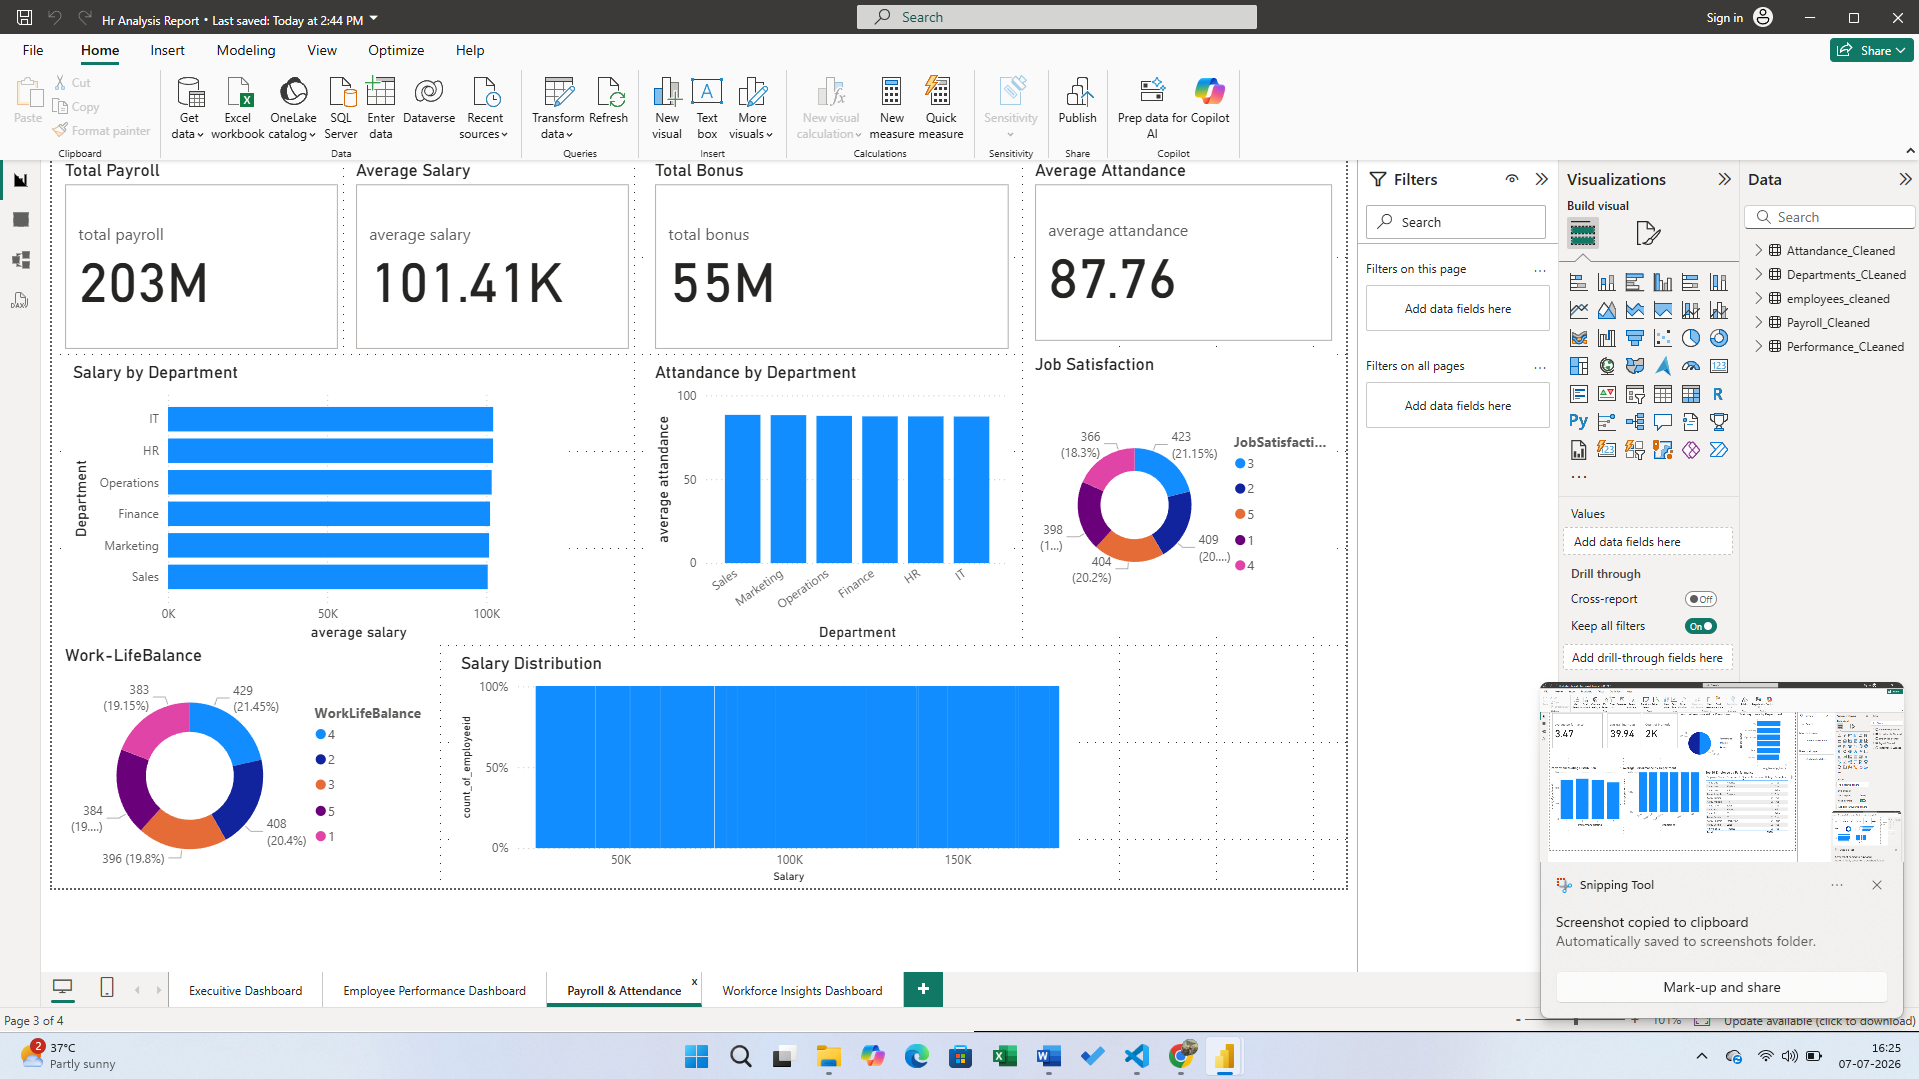

What the dashboard file says about the page in this screenshot:
{"tool":"powerbi","page":{"name":"Payroll & Attendance","canvas":[1280,720],"ordinal":2},"visuals":[{"type":"cardVisual","title":"Total Payroll","fields":{"Data":["Attandance_Cleaned.total payroll"]},"box":[8,0,280,192],"z":0},{"type":"cardVisual","title":"Average Salary","fields":{"Data":["Attandance_Cleaned.average salary"]},"box":[296,0,280,192],"z":1},{"type":"cardVisual","title":"Total Bonus","fields":{"Data":["Attandance_Cleaned.total bonus"]},"box":[592,0,360,192],"z":2},{"type":"cardVisual","title":"Average Attandance","fields":{"Data":["Attandance_Cleaned.average attandance"]},"box":[968,0,304,184],"z":3},{"type":"hundredPercentStackedColumnChart","title":"Salary Distribution","fields":{"Category":["Payroll_Cleaned.Salary"],"Y":["Attandance_Cleaned.count_of_employeeid"]},"box":[400,488,616,232],"z":4},{"type":"barChart","title":"Salary by Department","fields":{"Category":["Departments_CLeaned.Department"],"Y":["Attandance_Cleaned.average salary"]},"box":[16,200,496,280],"z":5},{"type":"columnChart","title":"Attandance by Department","fields":{"Category":["Departments_CLeaned.Department"],"Y":["Attandance_Cleaned.average attandance"]},"box":[592,200,360,280],"z":6},{"type":"donutChart","title":"Job Satisfaction","fields":{"Category":["Attandance_Cleaned.JobSatisfaction"],"Y":["Attandance_Cleaned.count_of_employeeid"]},"box":[968,192,304,280],"z":7},{"type":"donutChart","title":"Work-LifeBalance","fields":{"Category":["Attandance_Cleaned.WorkLifeBalance"],"Y":["Attandance_Cleaned.count_of_employeeid"]},"box":[8,480,376,240],"z":8}]}

Visuals, with their boxes on the page's 1280x720 design canvas (x1, y1, x2, y2). These are canvas units, not pixel positions in the 1919x1079 screenshot, which may show the page scaled, cropped or inside an application window:
"Total Payroll" cardVisual: select_region(8, 0, 288, 192)
"Average Salary" cardVisual: select_region(296, 0, 576, 192)
"Total Bonus" cardVisual: select_region(592, 0, 952, 192)
"Average Attandance" cardVisual: select_region(968, 0, 1272, 184)
"Salary Distribution" hundredPercentStackedColumnChart: select_region(400, 488, 1016, 720)
"Salary by Department" barChart: select_region(16, 200, 512, 480)
"Attandance by Department" columnChart: select_region(592, 200, 952, 480)
"Job Satisfaction" donutChart: select_region(968, 192, 1272, 472)
"Work-LifeBalance" donutChart: select_region(8, 480, 384, 720)
